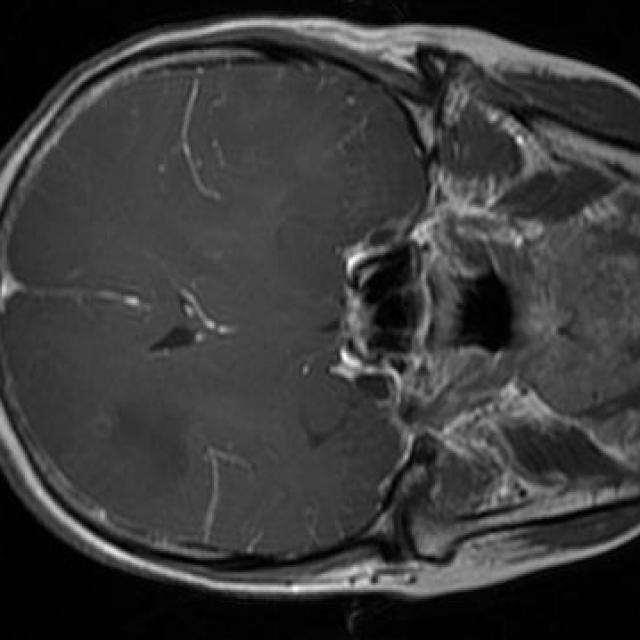glioma: (116, 401, 182, 469)
